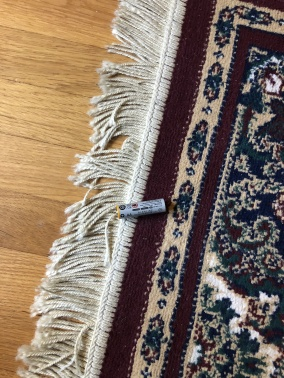battery: (111, 193, 171, 227)
